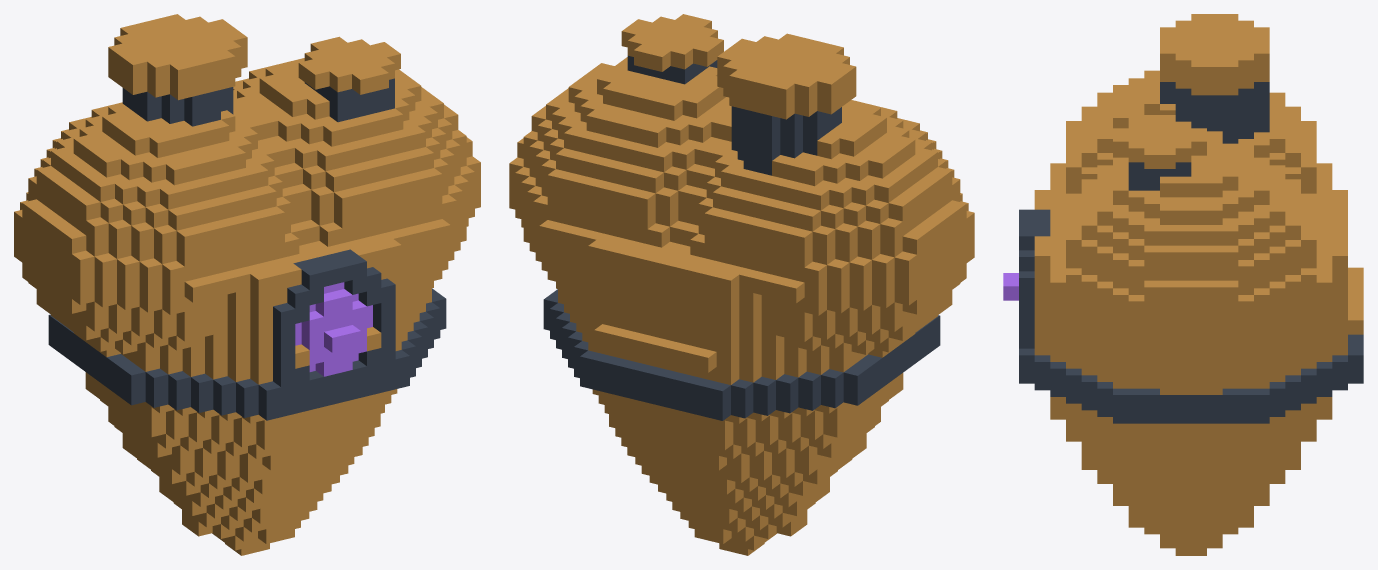
The model's file is golem_heart.glb.
3 views of the same model, side by side, from view 1: azimuth 30°, elevation 25°; view 2: azimuth 150°, elevation 25°; view 3: azimuth 270°, elevation 25° (orthographic). The views are drawn at different scales.
Visible parts, largest first — view 1: golem_heart:compound; view 2: golem_heart:compound; view 3: golem_heart:compound.
Boxes of the visible parts, box(x1,y1,x2,y2) form: golem_heart:compound: box(14, 14, 480, 555); golem_heart:compound: box(509, 14, 974, 555); golem_heart:compound: box(1003, 14, 1363, 555).
Size of the model in its own units: 0.112 by 0.136 by 0.092.
